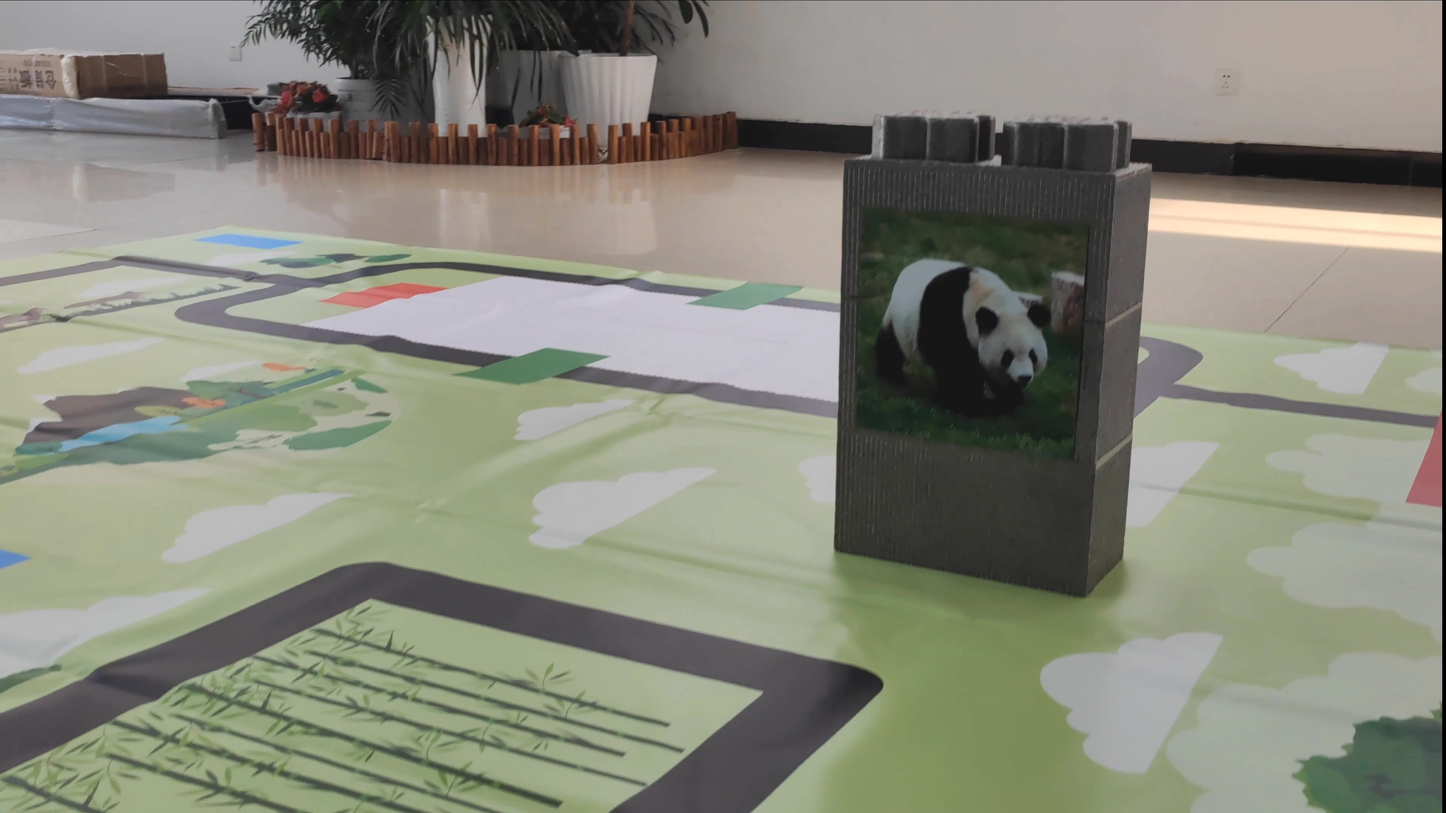panda: (863, 216, 1077, 457)
